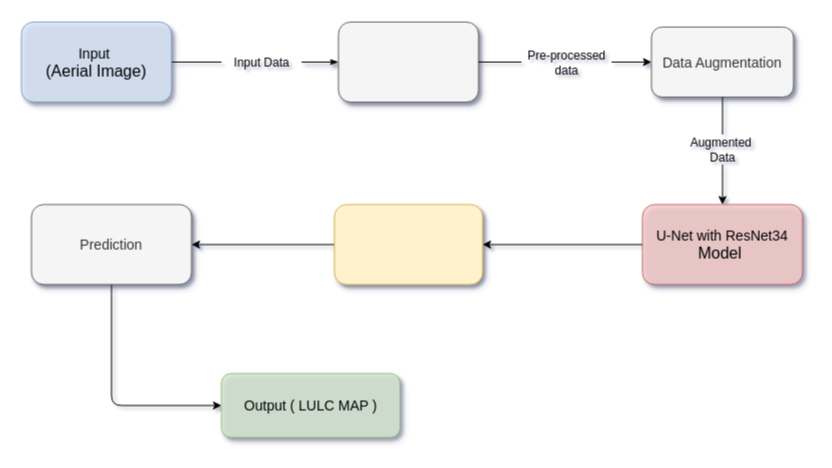
The diagram is 832 pixels wide and 468 high, and some of its shapes have lost their labels. The shapes that lost their labels are listed below. From the top down, each one's centre as x and y in pixels, then its label:
At point (409, 63): "Data Preprocessing".
At point (409, 246): "Training with Adam Optimizer".
